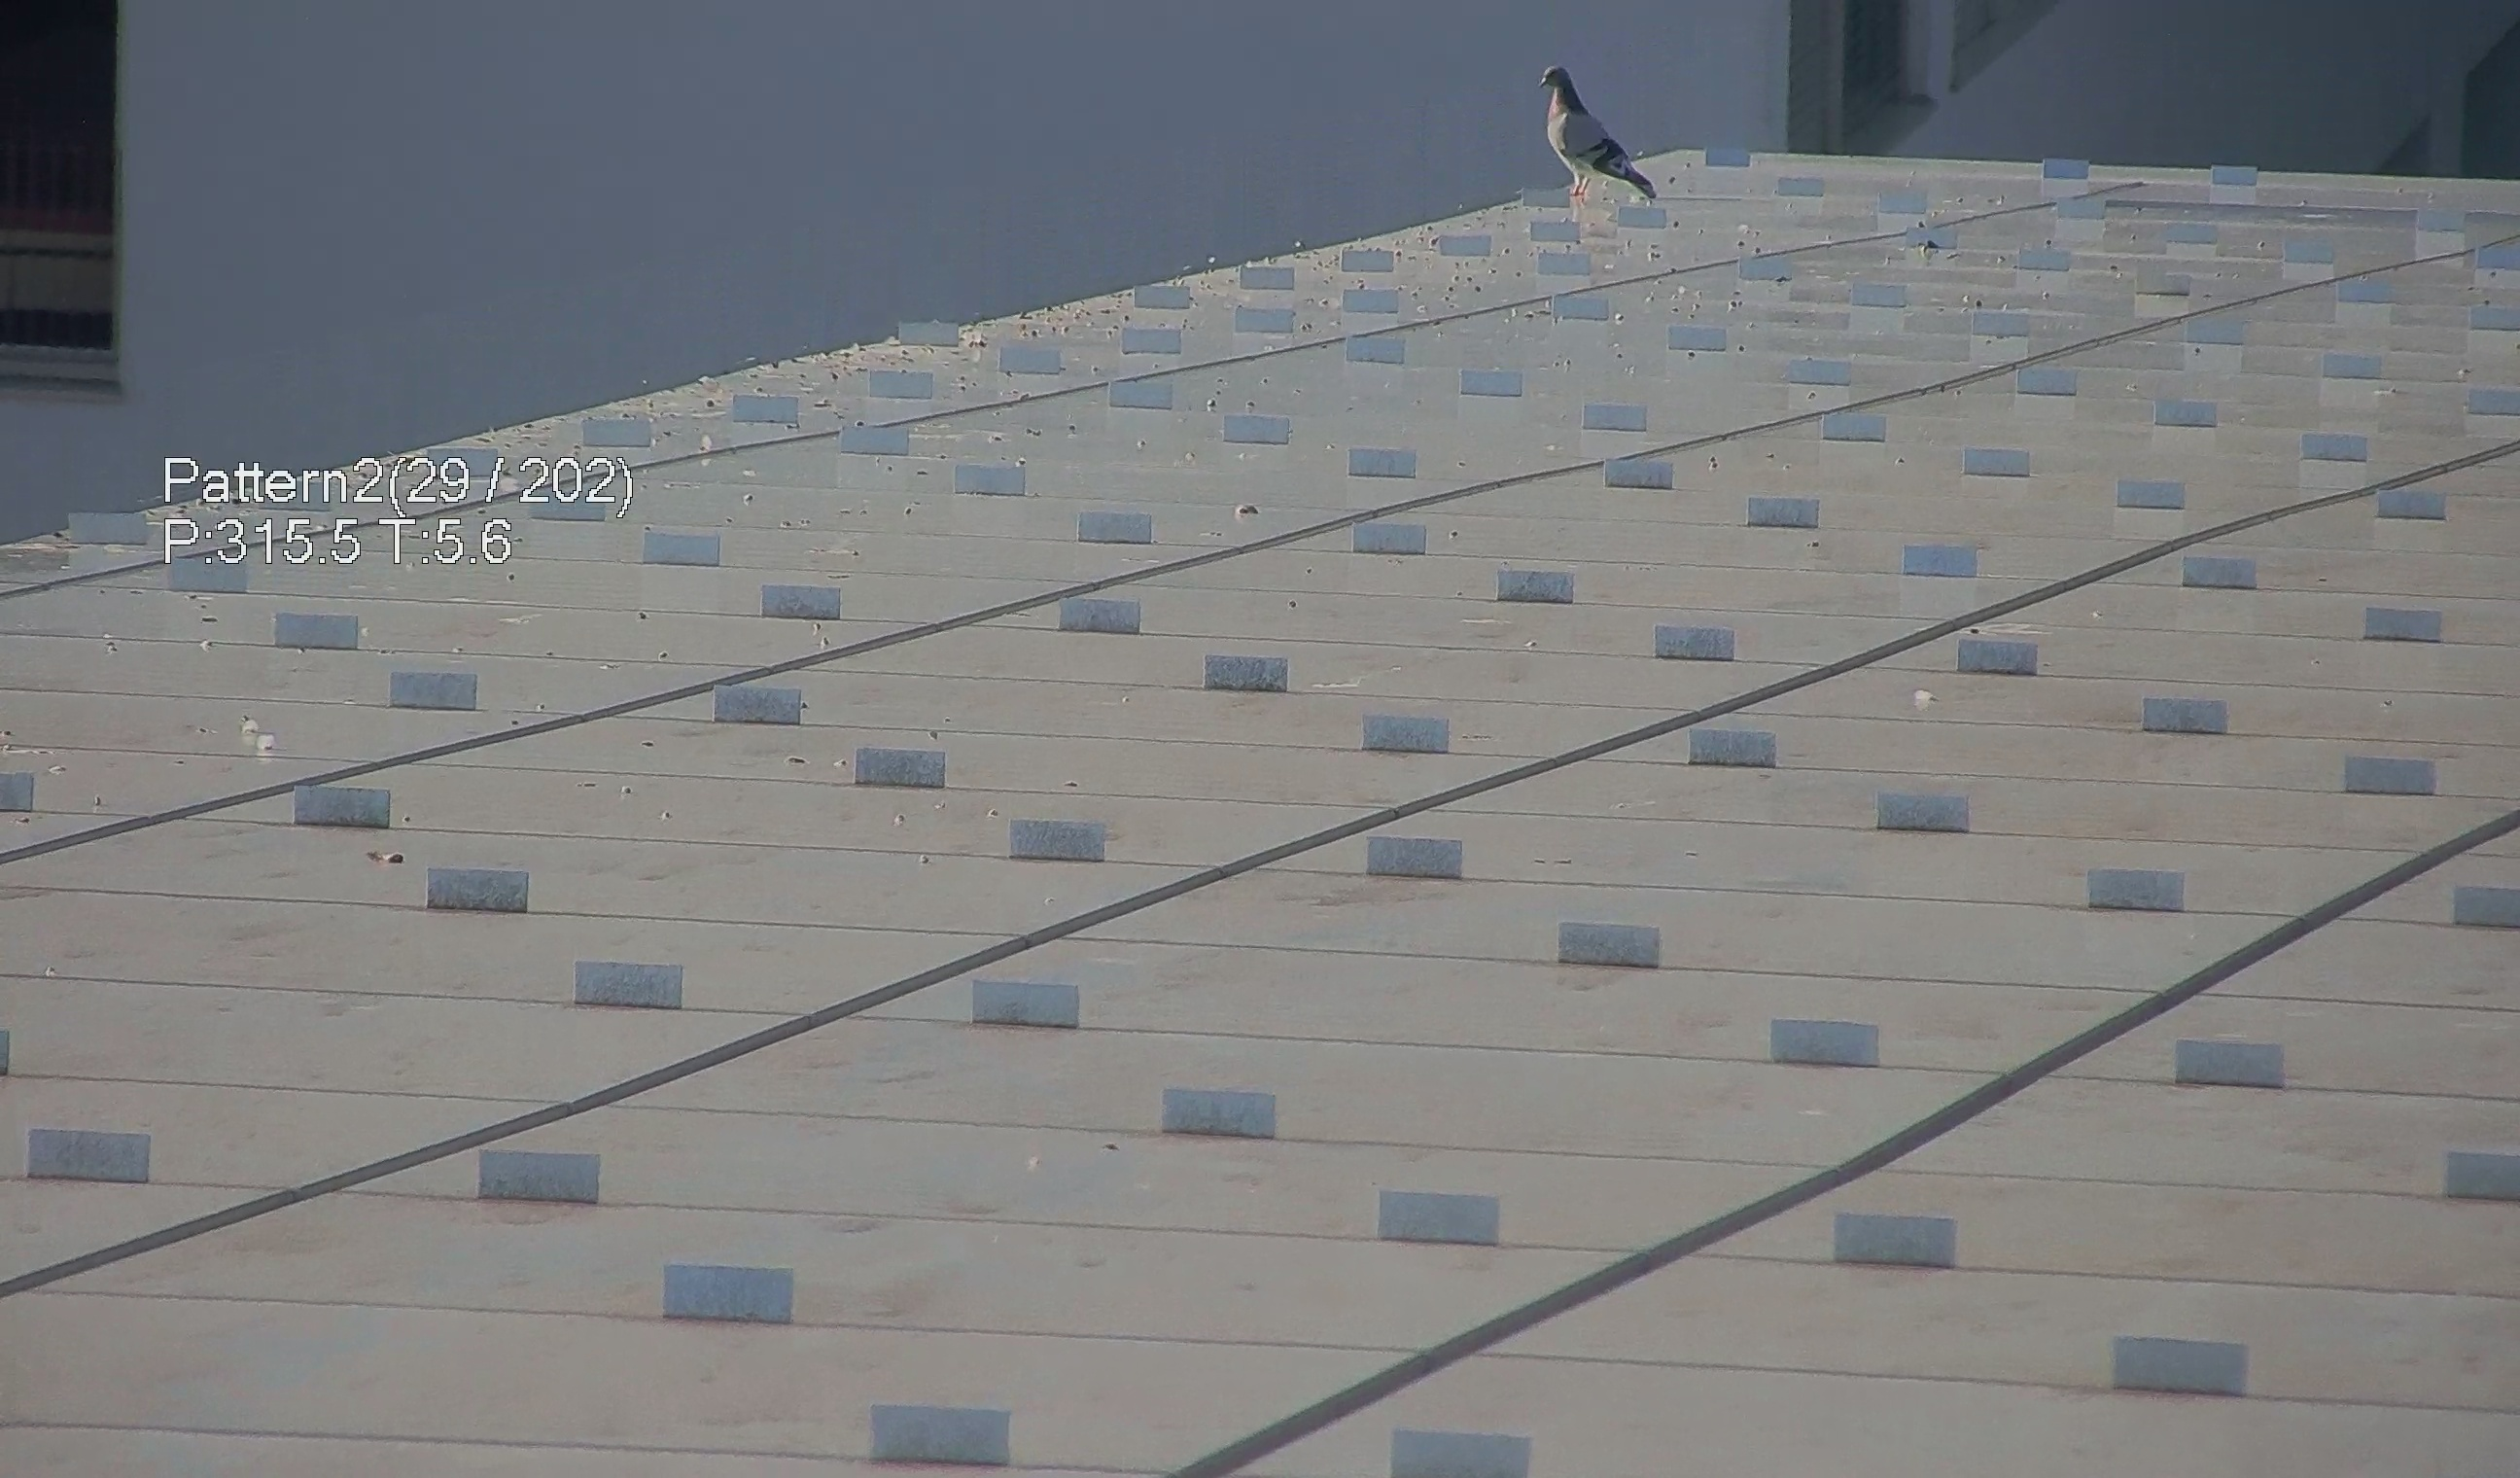Pigeon: (1533, 58, 1665, 209)
